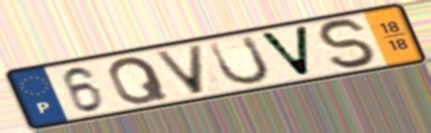6: (61, 65, 108, 114)
Q: (106, 55, 172, 107)
S: (314, 17, 383, 71)
U: (205, 33, 273, 87)
V: (255, 23, 313, 79), (151, 42, 208, 97)
